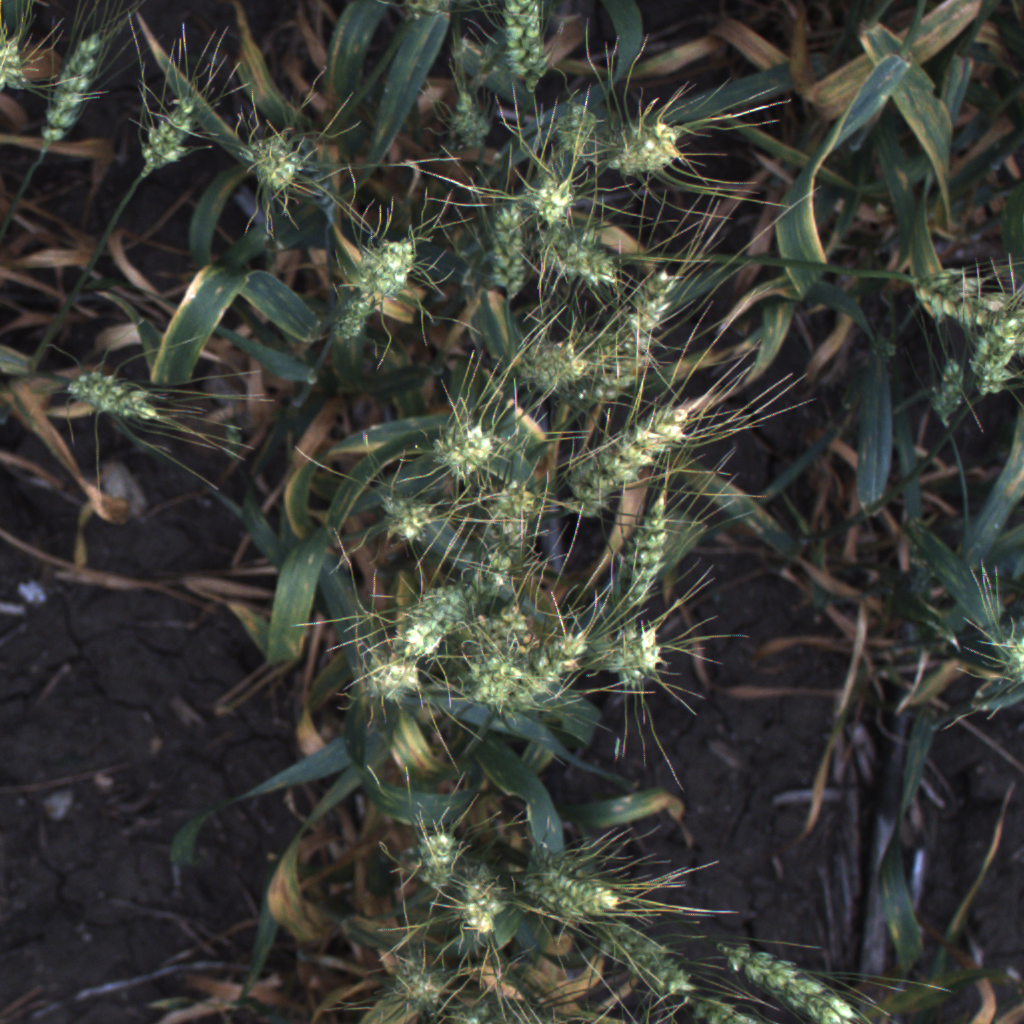wheat_head: (569, 401, 730, 513), (712, 937, 874, 1024), (30, 23, 116, 160), (51, 357, 181, 440), (573, 925, 701, 1000), (124, 77, 217, 180), (910, 258, 1024, 330), (515, 859, 644, 920), (232, 119, 320, 207), (503, 634, 591, 717), (617, 503, 675, 617), (608, 111, 694, 184), (492, 0, 557, 95), (537, 225, 622, 292), (422, 412, 500, 485), (361, 228, 433, 305), (475, 204, 530, 300), (515, 333, 588, 401), (970, 310, 1024, 399), (627, 267, 679, 354), (602, 626, 672, 690), (482, 476, 544, 548), (975, 622, 1024, 709), (437, 93, 500, 156), (392, 585, 473, 633), (451, 868, 505, 939), (467, 603, 535, 659), (463, 655, 523, 717), (407, 833, 467, 894), (357, 655, 421, 710), (328, 278, 383, 342), (0, 15, 39, 96), (546, 98, 600, 156), (524, 173, 586, 223), (924, 356, 967, 428), (663, 996, 764, 1024), (382, 497, 430, 549), (387, 965, 443, 1004), (592, 365, 646, 402), (405, 622, 448, 659)
